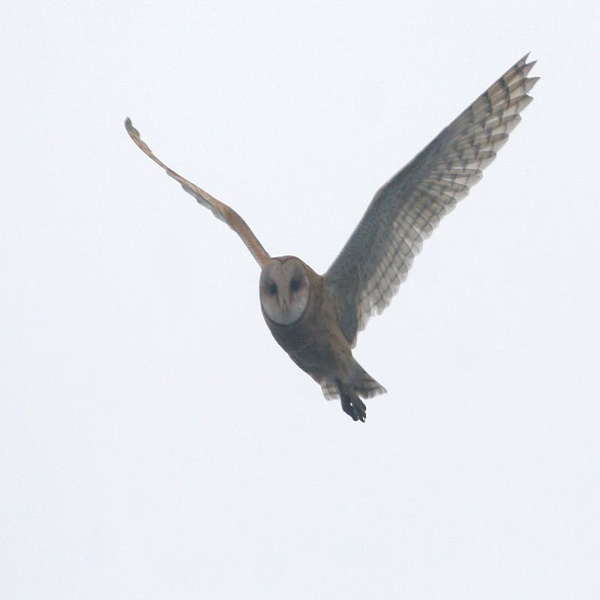bird: (113, 45, 544, 425)
